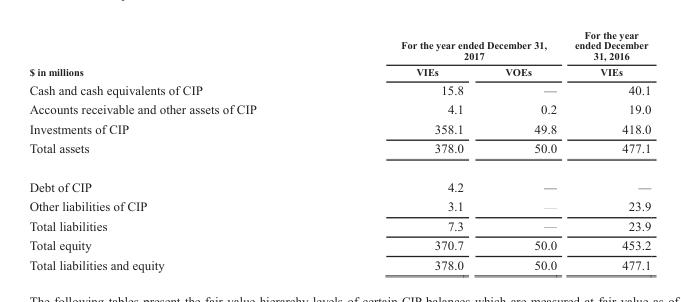table: (28, 28, 650, 271)
table column: (28, 28, 328, 271), (328, 28, 483, 271), (565, 28, 650, 271), (483, 28, 565, 271)
table column header: (28, 28, 650, 80)
table row: (28, 28, 650, 63), (28, 138, 650, 167), (28, 167, 650, 196), (28, 118, 650, 138), (28, 215, 650, 235), (28, 80, 650, 99), (28, 99, 650, 118), (28, 196, 650, 215), (28, 235, 650, 254), (28, 63, 650, 80), (28, 254, 650, 271)
table spanning cell: (28, 28, 328, 80), (328, 28, 565, 63), (565, 28, 650, 80)
